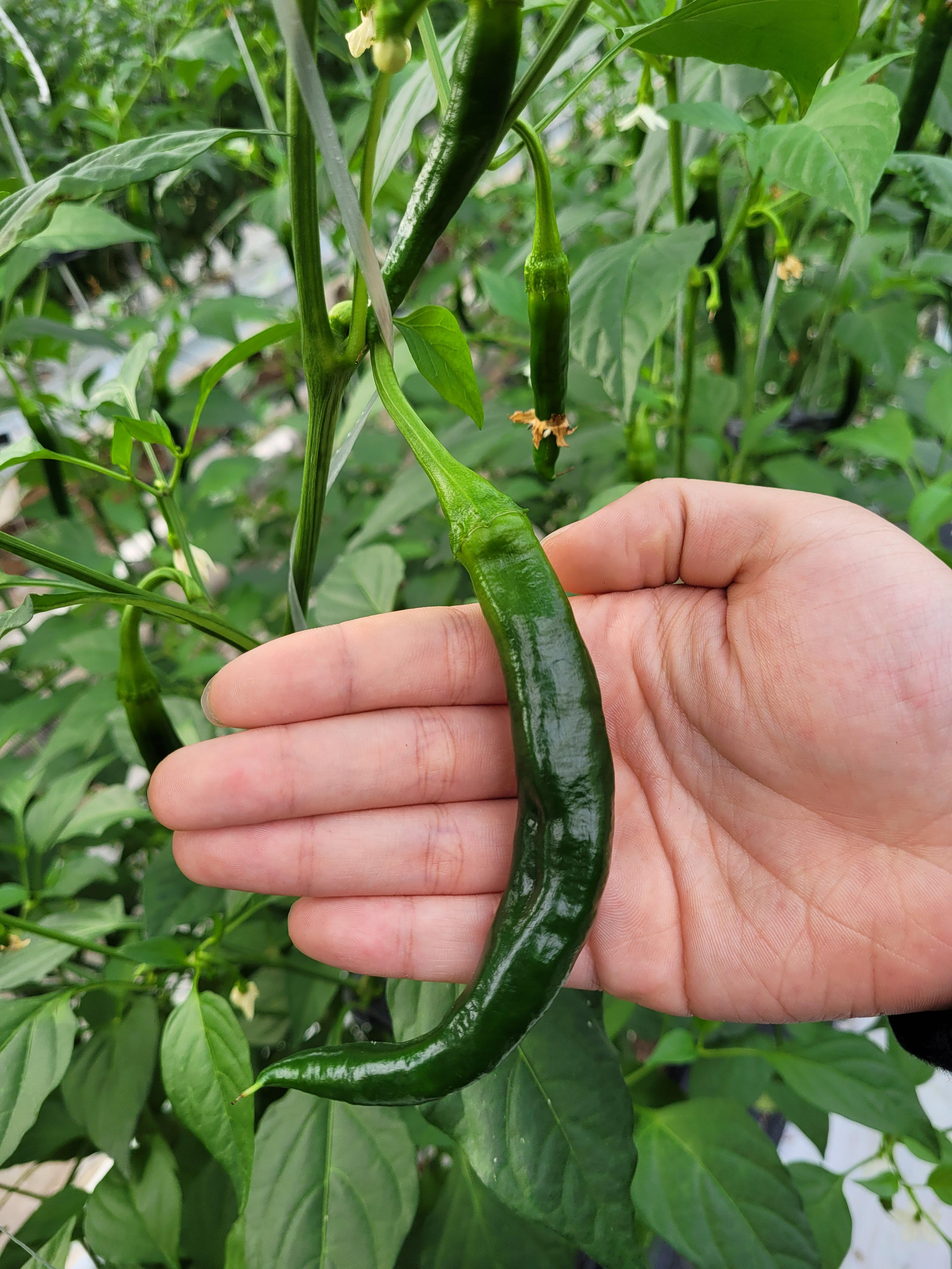Buah Cabai Sehat: (249, 487, 631, 1118)
